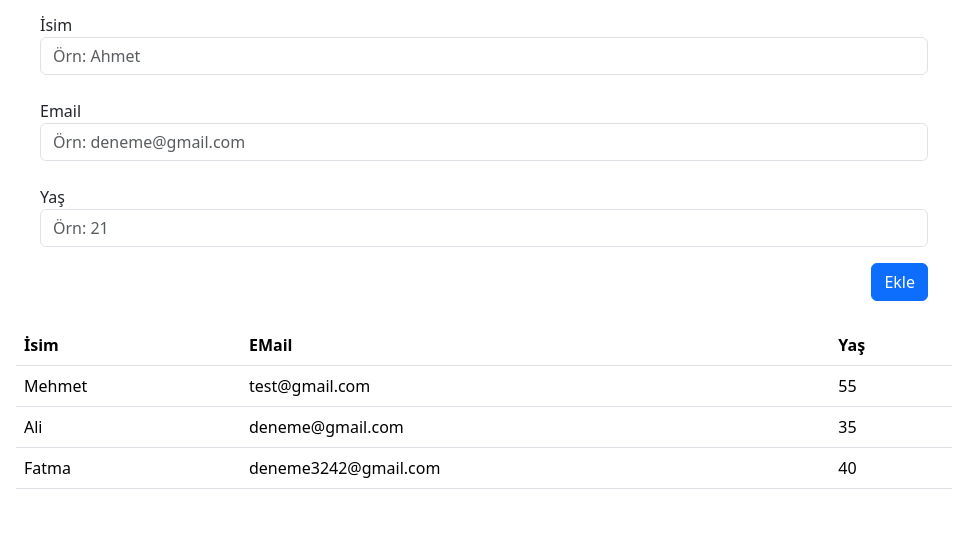
Scenario: form doldurulup kayıt ediliyor mu?
inputlara veri girişi yapıyoeruz
Type "bilal" into the field labelled "İsim" at [484, 56], box left=40, top=37, right=928, bottom=75
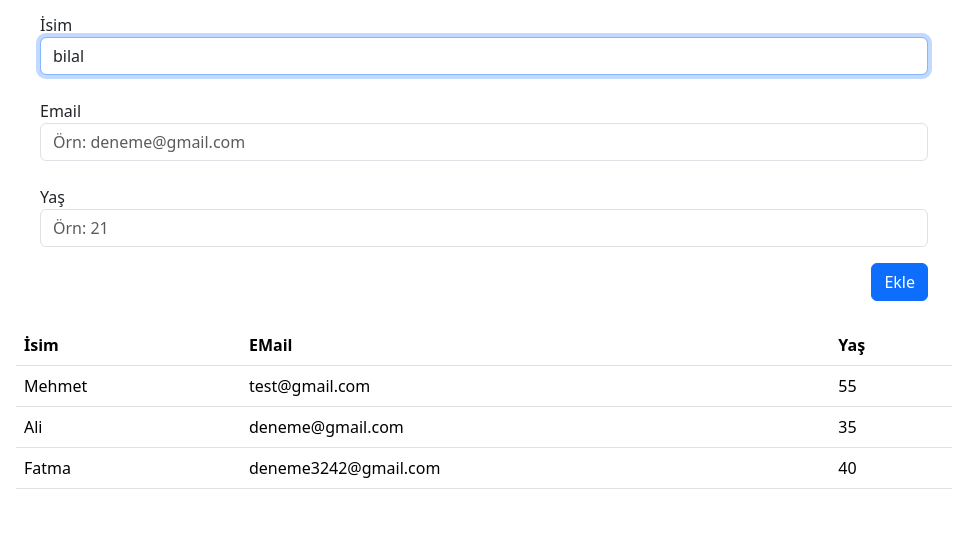
Type "bilal@gmail.com" into the field labelled "Email" at [484, 142], box left=40, top=123, right=928, bottom=161
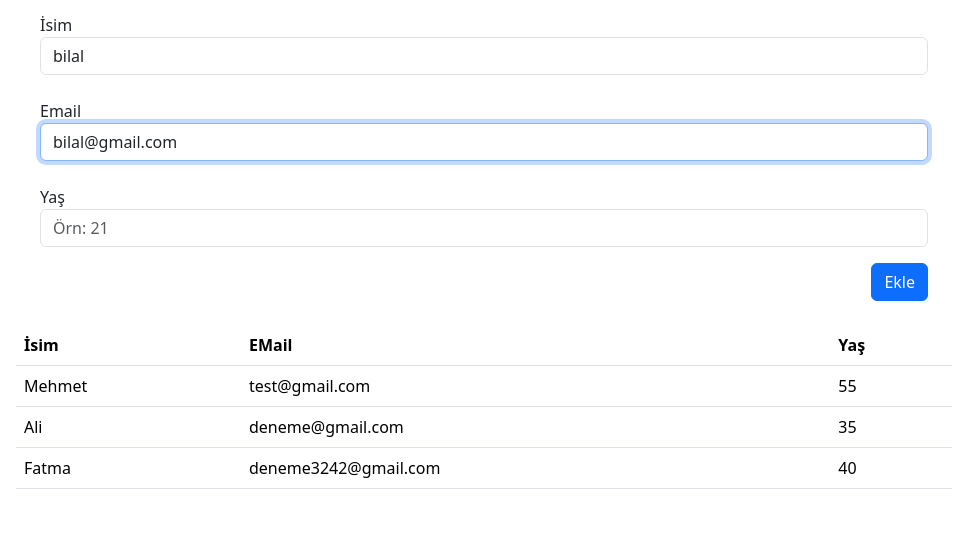
Type "22" into the number field labelled "Yaş" at [484, 228], box left=40, top=209, right=928, bottom=247
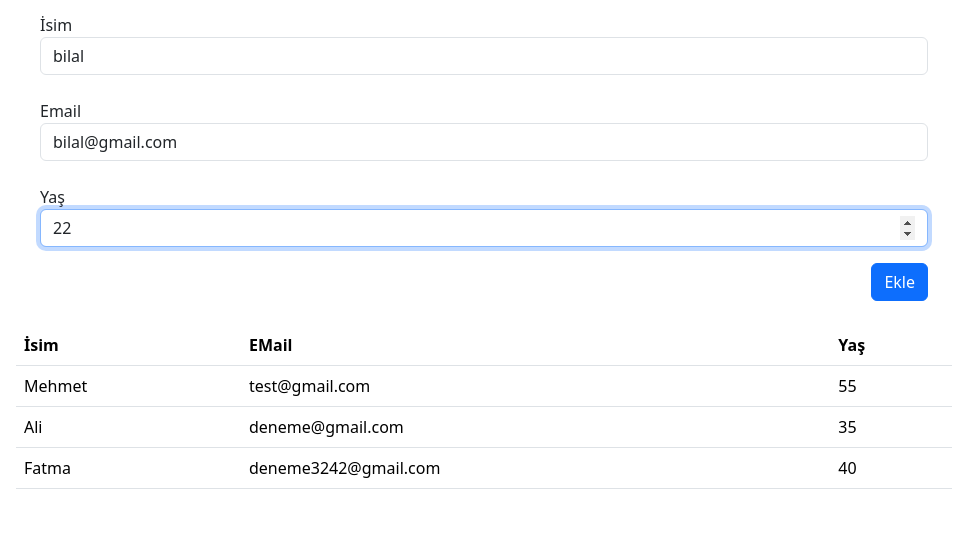
formu gönder
Click the button at [900, 282], box left=871, top=263, right=928, bottom=301
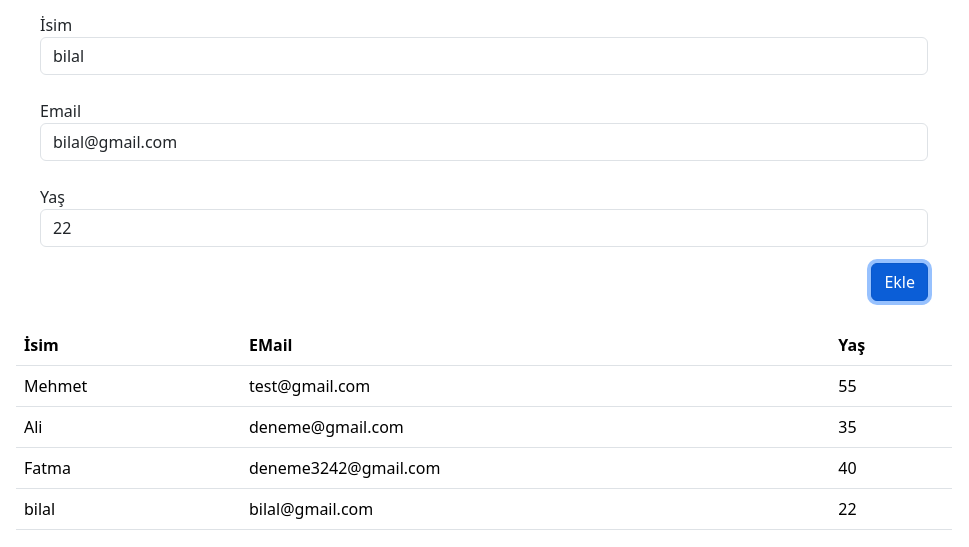
Result: the text "bilal" is shown at left=16, top=488, right=241, bottom=530
Result: the text "bilal@gmail.com" is shown at left=241, top=488, right=830, bottom=530
Result: the text "22" is shown at left=830, top=488, right=952, bottom=530
